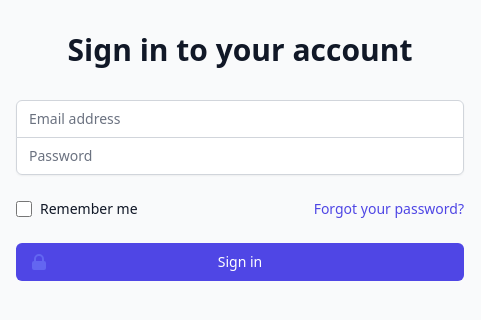
Test: Login Component › displays error message on failed login attempt
Type "test@example.com" into the field with placeholder "Email address". click: {"x": 240, "y": 118}
box: x1=16 y1=100 x2=464 y2=138
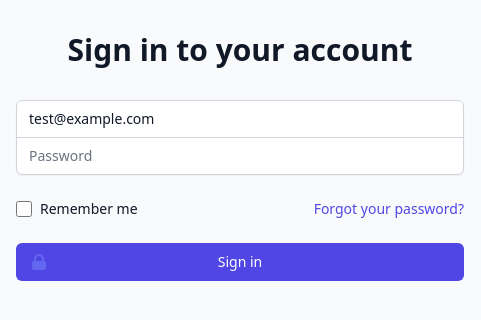
Type "password123" into the password field with placeholder "Password". click: {"x": 240, "y": 156}
box: x1=16 y1=136 x2=464 y2=174
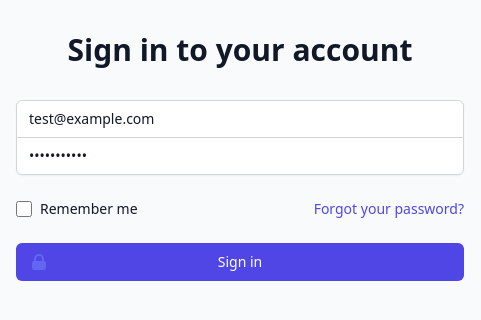
Click the button "Sign in". click: {"x": 240, "y": 262}
box: x1=16 y1=242 x2=464 y2=280
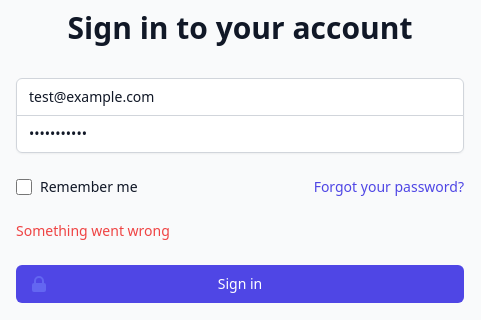
expect the text "Something went wrong" is shown: met, box x1=16 y1=220 x2=170 y2=240
